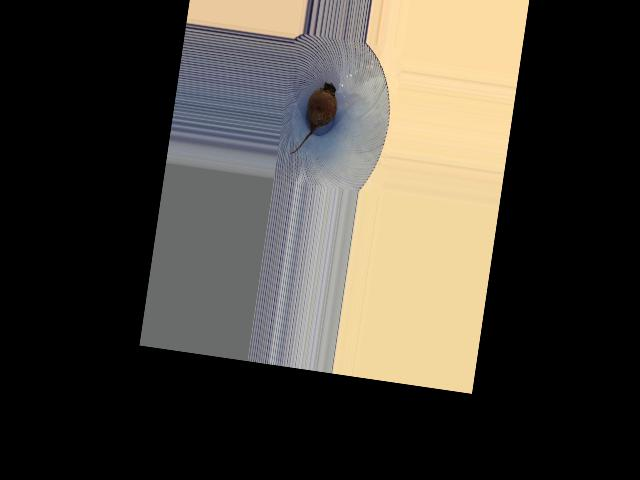beet: (290, 78, 339, 158)
